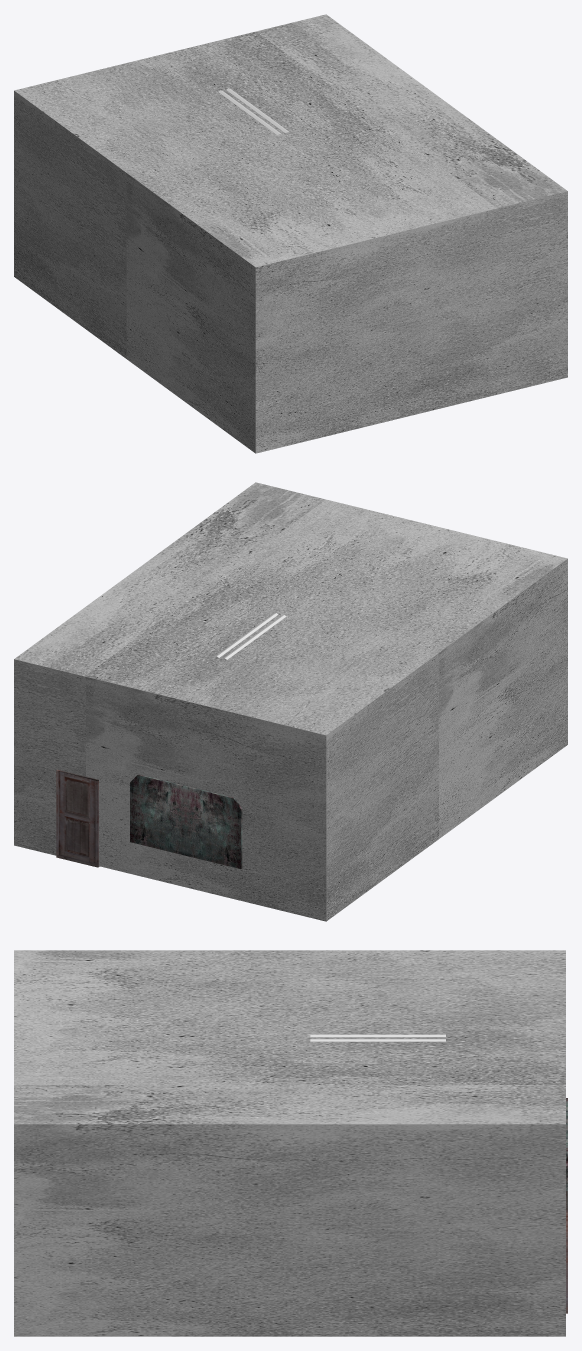
Rendered from profile room.glb.
The picture shows the model from 3 angles, top to bottom: view 1: azimuth 30°, elevation 25°; view 2: azimuth 150°, elevation 25°; view 3: azimuth 270°, elevation 25°; orthographic projection. The views are drawn at different scales.
Parts seen in each view (by area): view 1: walls, light; view 2: walls, scoreboard, door, light; view 3: walls, light.
Part boxes in pixels (x1,y1,x2,y2): walls: (14, 14, 567, 453); light: (218, 88, 289, 135); walls: (14, 482, 567, 921); scoreboard: (130, 774, 242, 868); door: (56, 769, 99, 867); light: (215, 613, 286, 659); walls: (14, 950, 565, 1336); light: (310, 1034, 445, 1041).
Size of the model in its own units: 17.8 by 10.42 by 23.96.
Materials: 11 (9 with a texture image).
